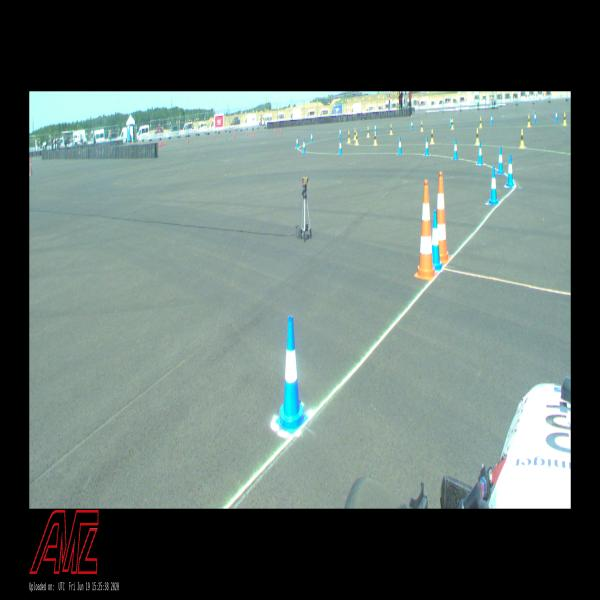blue_cone: (276, 318, 308, 428), (432, 211, 442, 270), (489, 166, 498, 206), (505, 154, 514, 188), (497, 147, 504, 174), (478, 141, 482, 166), (453, 139, 457, 160), (425, 137, 429, 156), (338, 139, 342, 156), (398, 137, 402, 154), (303, 139, 306, 153), (490, 113, 493, 124), (296, 136, 298, 148), (555, 110, 557, 121), (310, 132, 312, 143), (534, 112, 536, 122), (411, 120, 413, 129), (374, 123, 376, 132), (339, 128, 341, 136), (450, 117, 451, 126)
large_orange_cone: (415, 179, 437, 283), (436, 172, 450, 263)
yellow_cone: (518, 129, 524, 148), (475, 128, 479, 143), (373, 132, 377, 145), (430, 129, 433, 144), (347, 130, 350, 143), (451, 118, 454, 130), (527, 115, 530, 126), (366, 126, 369, 137), (353, 129, 356, 138), (564, 112, 566, 125), (356, 132, 358, 145), (479, 118, 482, 126), (390, 124, 392, 134), (421, 121, 423, 130)
